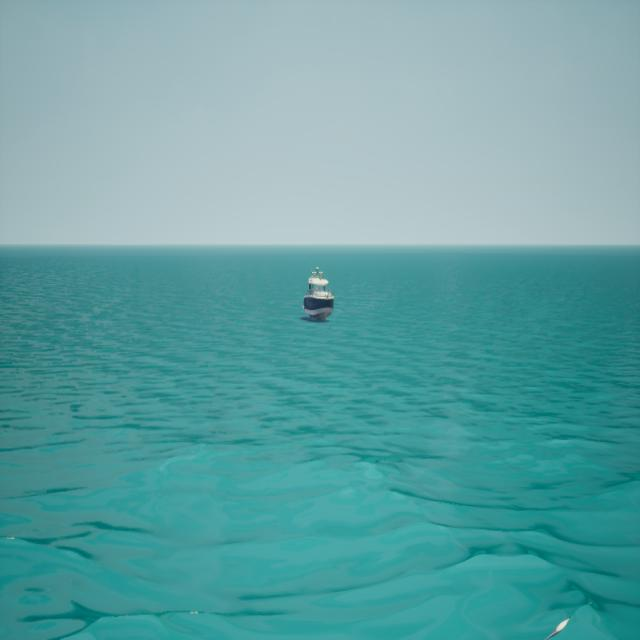ship: (303, 264, 335, 320)
